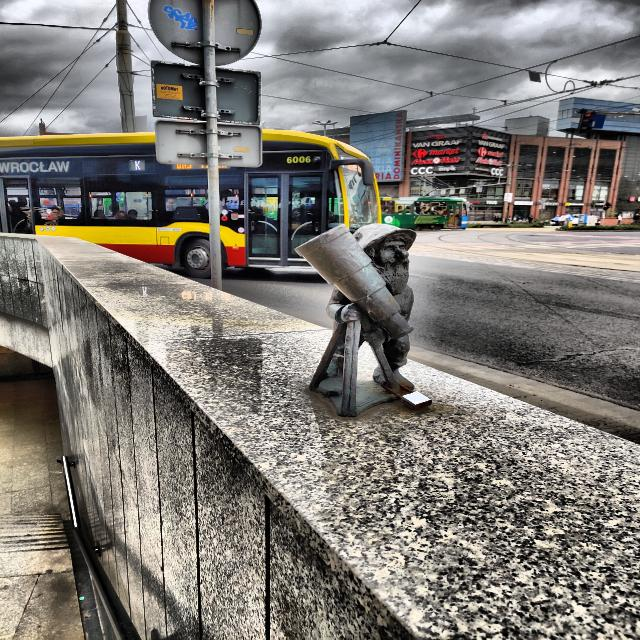Lunetyk: (295, 223, 417, 419)
